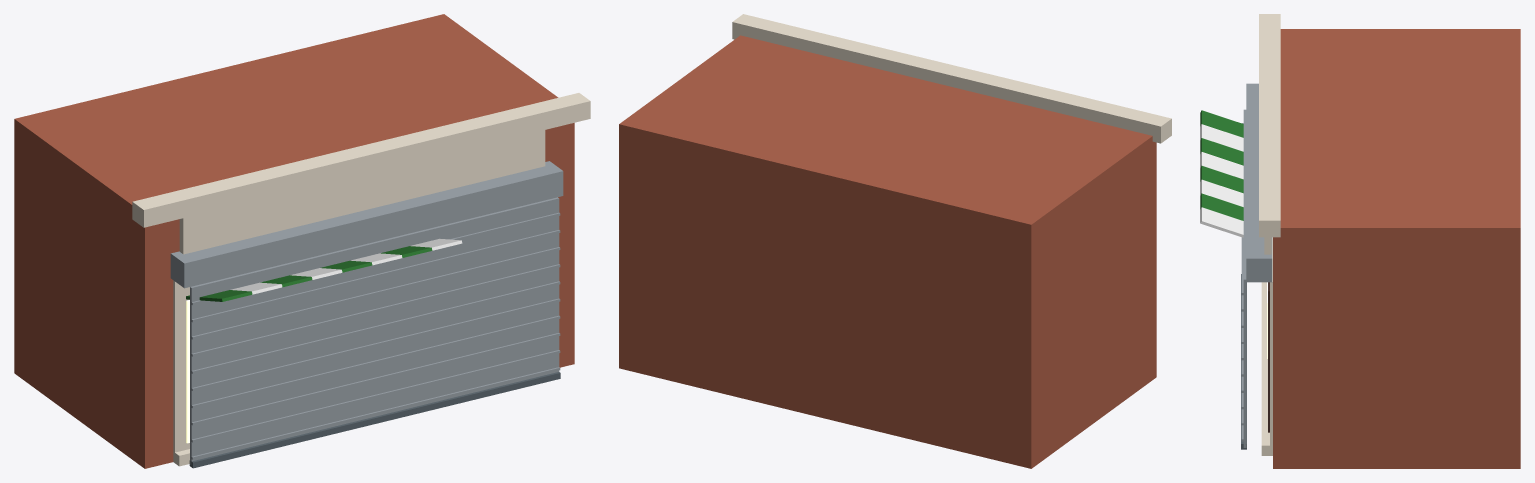
File: shabbos_shop.glb
3 renders of one model, left to right at view 1: azimuth 30°, elevation 25°; view 2: azimuth 150°, elevation 25°; view 3: azimuth 270°, elevation 25°, orthographic. The views are drawn at different scales.
Visible parts, largest first — view 1: ShabbosShop_body, Gate; view 2: ShabbosShop_body; view 3: ShabbosShop_body, Gate.
Boxes of the visible parts, <box> form: ShabbosShop_body: <box>14,14,590,468</box>; Gate: <box>189,197,560,468</box>; ShabbosShop_body: <box>619,14,1171,468</box>; ShabbosShop_body: <box>1200,14,1520,468</box>; Gate: <box>1241,109,1246,449</box>.
Bounding box in the file's own units: 7.9 × 4.5 × 5.17.
